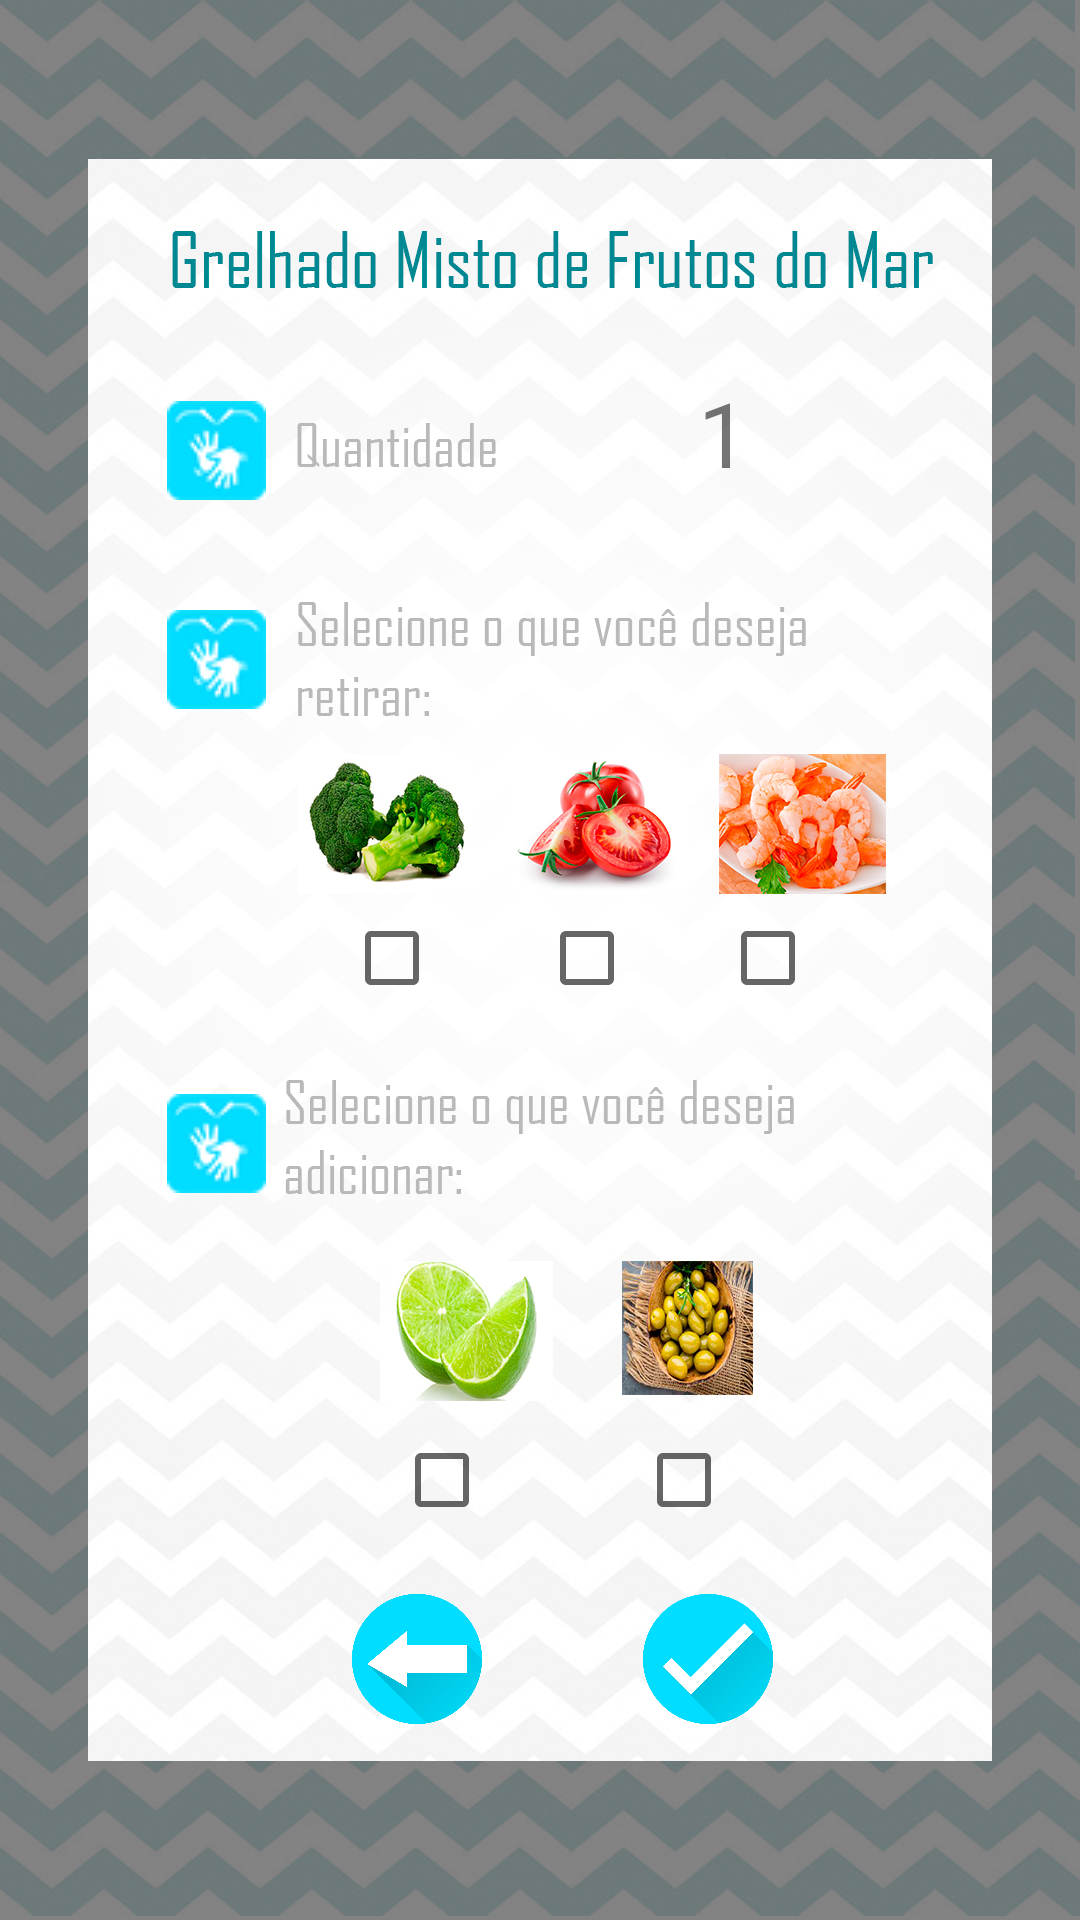

Named icons in this screenshot (1080 x 1920) and their bounding boxes, (x1, y1, x2, y2):
checkcircle: (643, 1594, 773, 1724)
seta: (352, 1594, 482, 1724)
